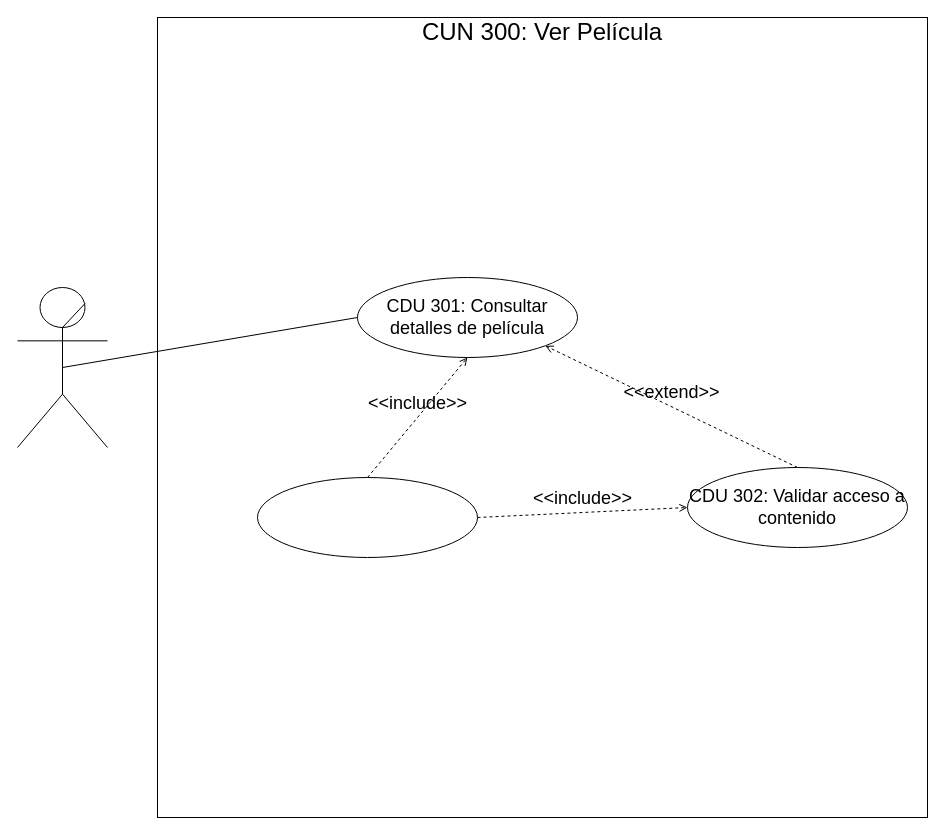
The diagram is 945 pixels wide and 835 high, and some of its shapes have lost their labels. Each missing label, with the centre of its shape:
CDU 303: Reporducir película: (367,517)
Usuario: (62,367)
